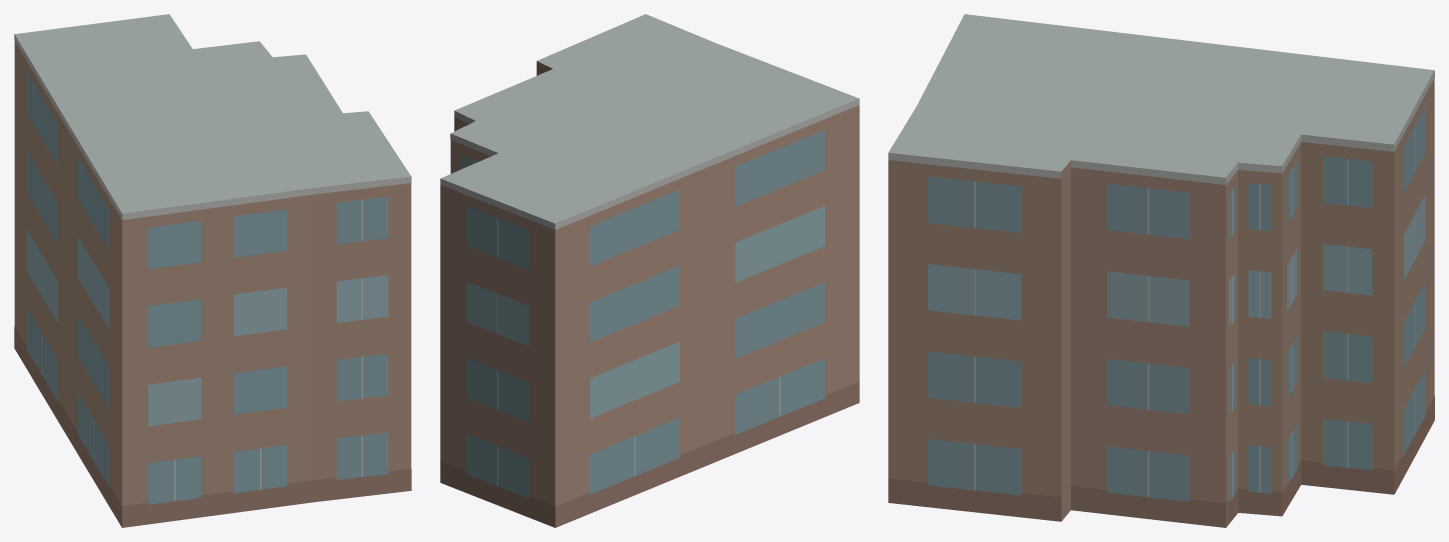
File: survey-upis-33035954.glb
The picture shows the model from 3 angles, left to right: view 1: azimuth 30°, elevation 25°; view 2: azimuth 150°, elevation 25°; view 3: azimuth 270°, elevation 25°; orthographic projection. The views are drawn at different scales.
Visible parts, largest first — view 1: survey-upis-33035954.tmp; view 2: survey-upis-33035954.tmp; view 3: survey-upis-33035954.tmp.
Boxes of the visible parts, left/top/right/bottom form: survey-upis-33035954.tmp: left=14, top=14, right=411, bottom=527; survey-upis-33035954.tmp: left=440, top=14, right=859, bottom=527; survey-upis-33035954.tmp: left=888, top=14, right=1434, bottom=527.
Bounding box in the file's own units: 11.9 × 11.85 × 16.78.
